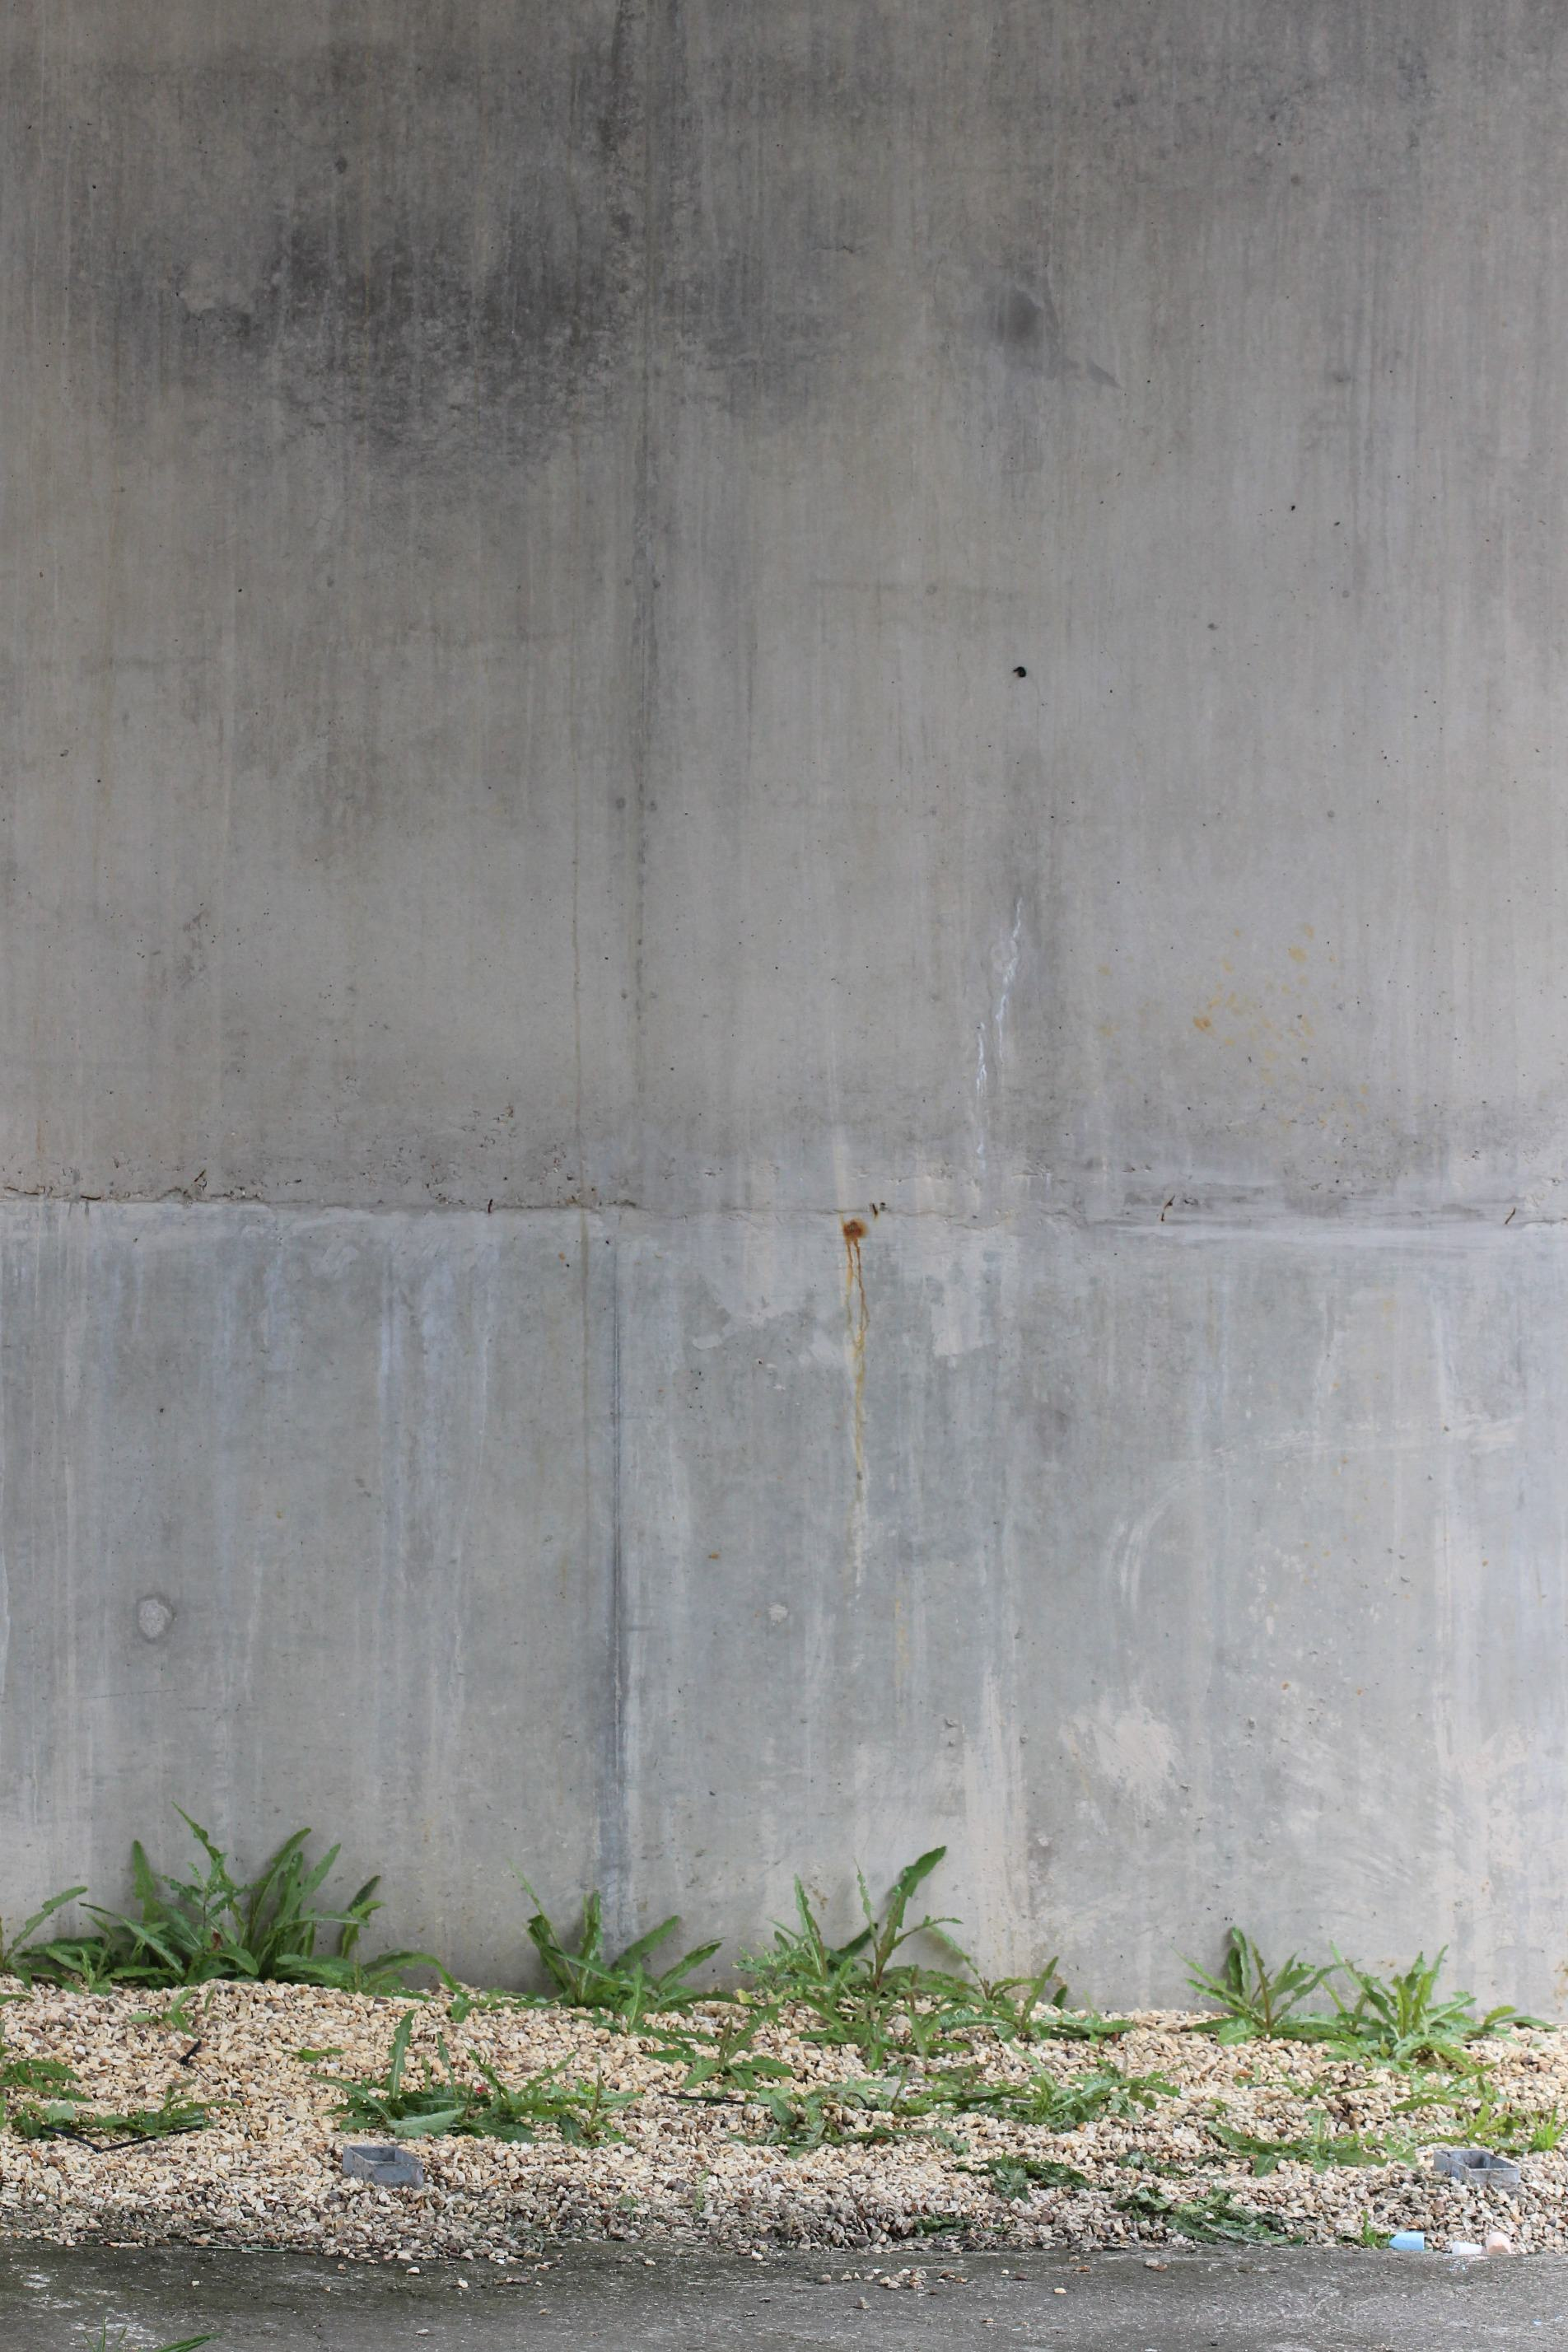Corrosion: (843, 1220, 870, 1470)
Exposed reinforcement: (5, 1186, 40, 1197), (1503, 1207, 1517, 1227), (194, 1169, 206, 1185), (80, 1193, 101, 1202), (871, 1202, 878, 1216), (488, 1199, 493, 1214)
Spalling: (136, 1598, 171, 1641)
